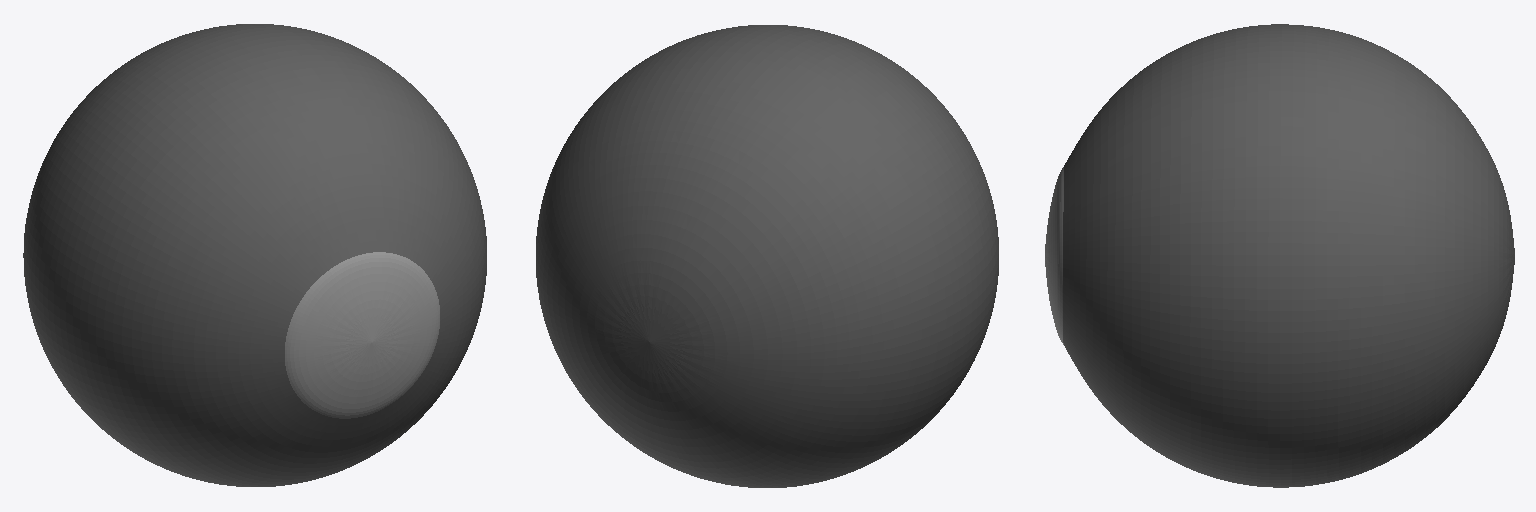
The model's file is ojo.obj.
The picture shows the model from 3 angles: view 1: azimuth 30°, elevation 25°; view 2: azimuth 150°, elevation 25°; view 3: azimuth 270°, elevation 25°; orthographic projection.
Visible parts, largest first — view 1: eyeball_1_eye_1, eyeball_1.003_eye_1.003; view 2: eyeball_1_eye_1; view 3: eyeball_1_eye_1, eyeball_1.003_eye_1.003.
Boxes of the visible parts, <box> form: eyeball_1_eye_1: <box>23,24,486,486</box>; eyeball_1.003_eye_1.003: <box>285,252,439,418</box>; eyeball_1_eye_1: <box>536,25,998,487</box>; eyeball_1_eye_1: <box>1063,24,1514,487</box>; eyeball_1.003_eye_1.003: <box>1045,167,1063,344</box>.
Bounding box in the file's own units: 3.86 × 3.86 × 3.92.